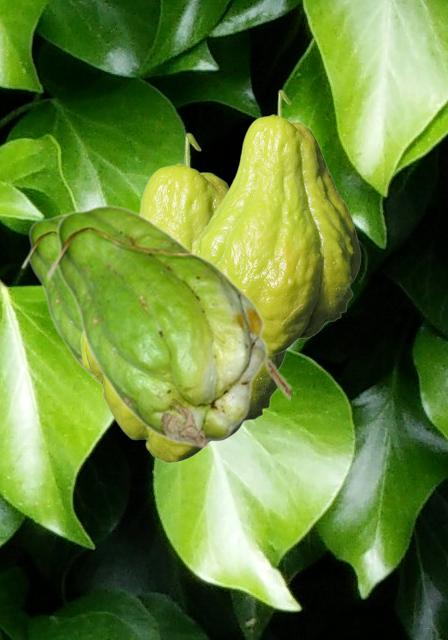sayote: (80, 132, 287, 462), (45, 204, 289, 448), (195, 89, 360, 355), (20, 214, 99, 384)
